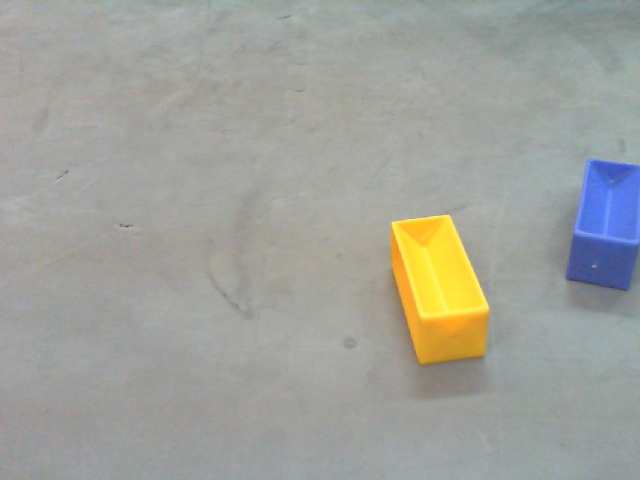BlueSample: (563, 155, 640, 299)
YellowSample: (386, 214, 492, 369)
